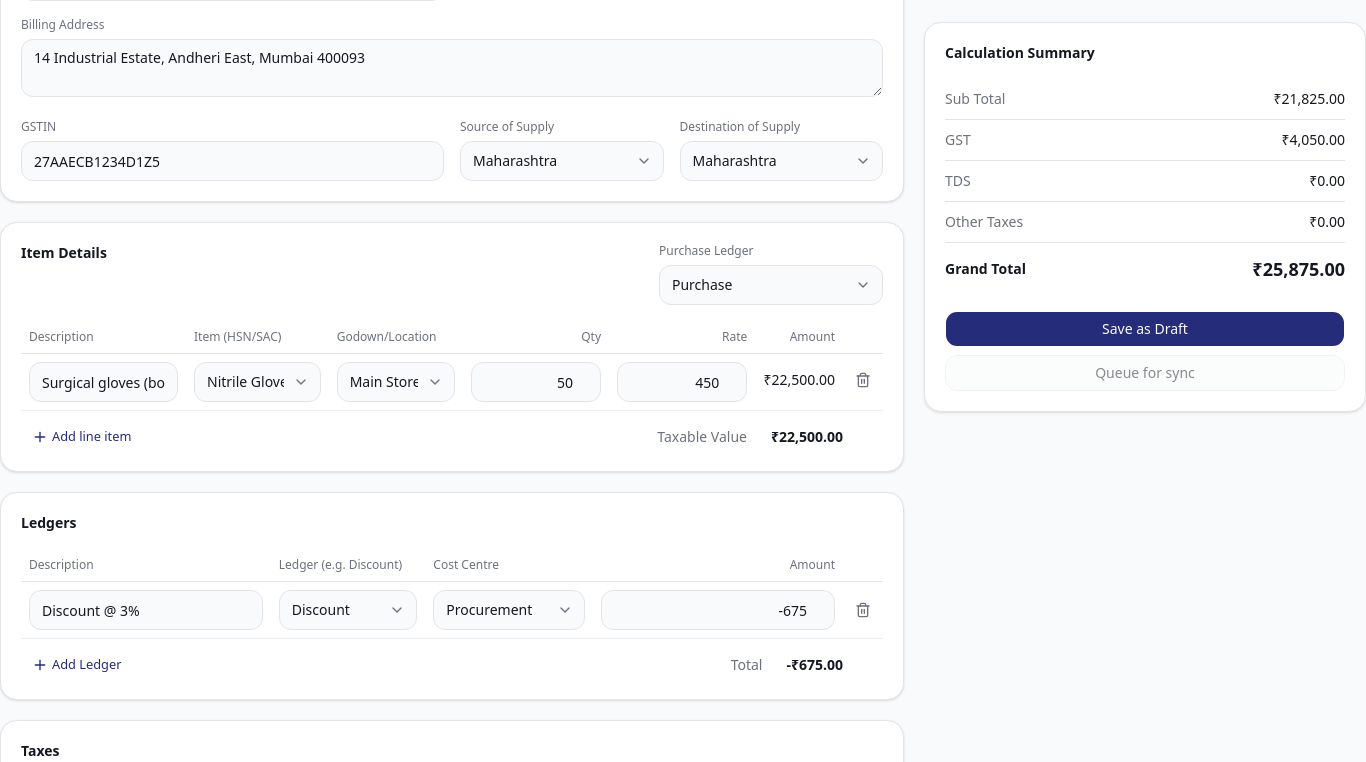
Scenario: CreateBillForm › blocks the save with an inline message when a line has no stock item
(page scrolled)
Select "Select item" in the dropdown named "Item for line 1" at (257, 382), box [194, 362, 321, 402]
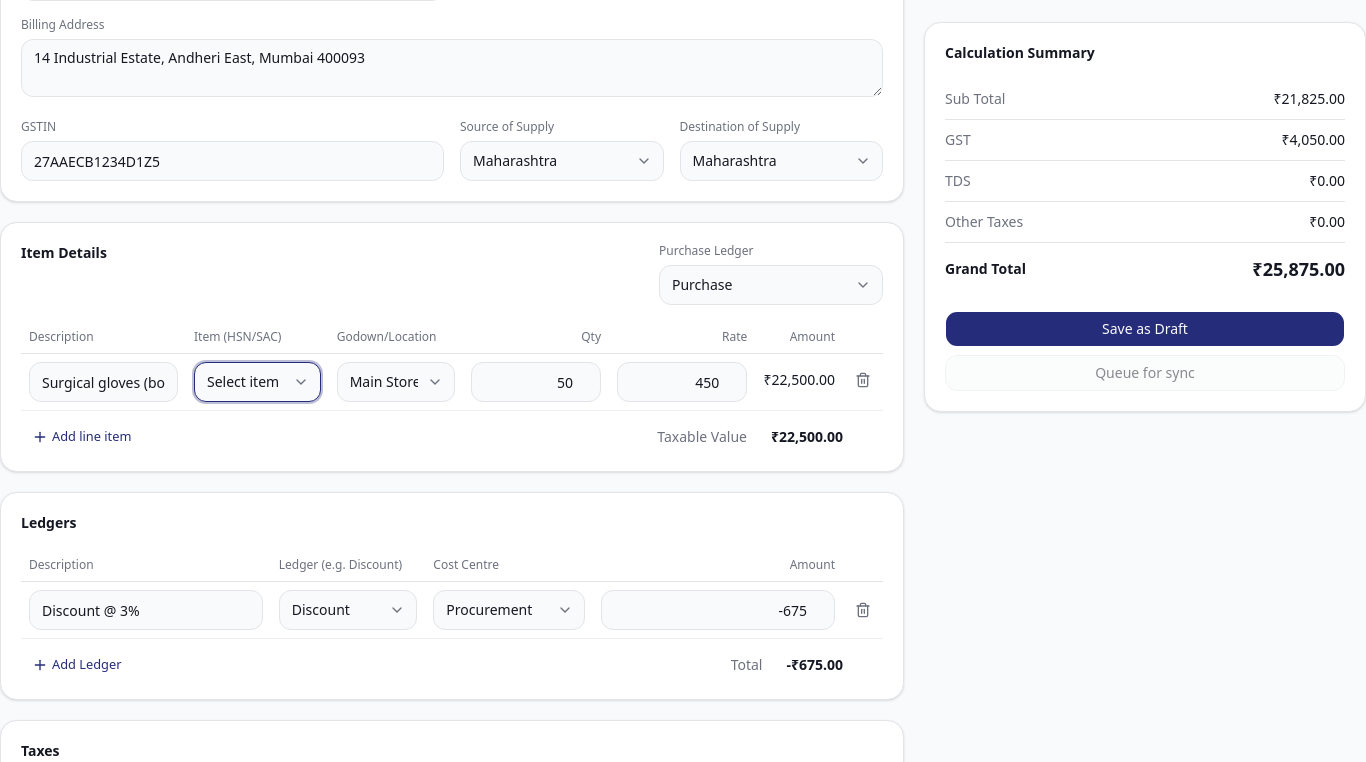
Click the button "Save as Draft".
click(1145, 329)  # box [945, 311, 1345, 347]
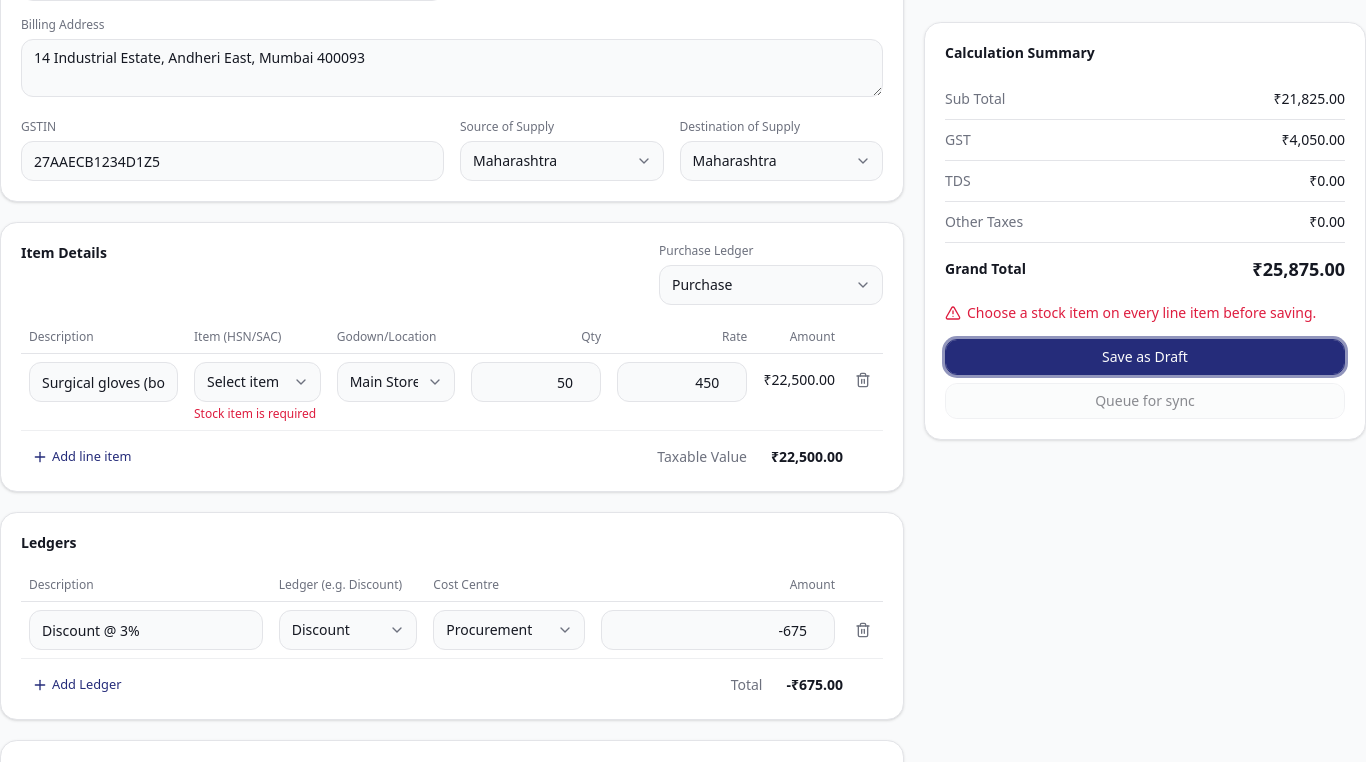
Expected: the text "Choose a stock item on every line item before saving." is shown, [945, 303, 1345, 323]
Expected: the message reads "Stock item is required", [194, 405, 316, 422]
Note: Picking an item clears the inline error and lets the save through.
Select "Syringes — 9018" in the dropdown named "Item for line 1" at (257, 382), box [194, 362, 321, 402]
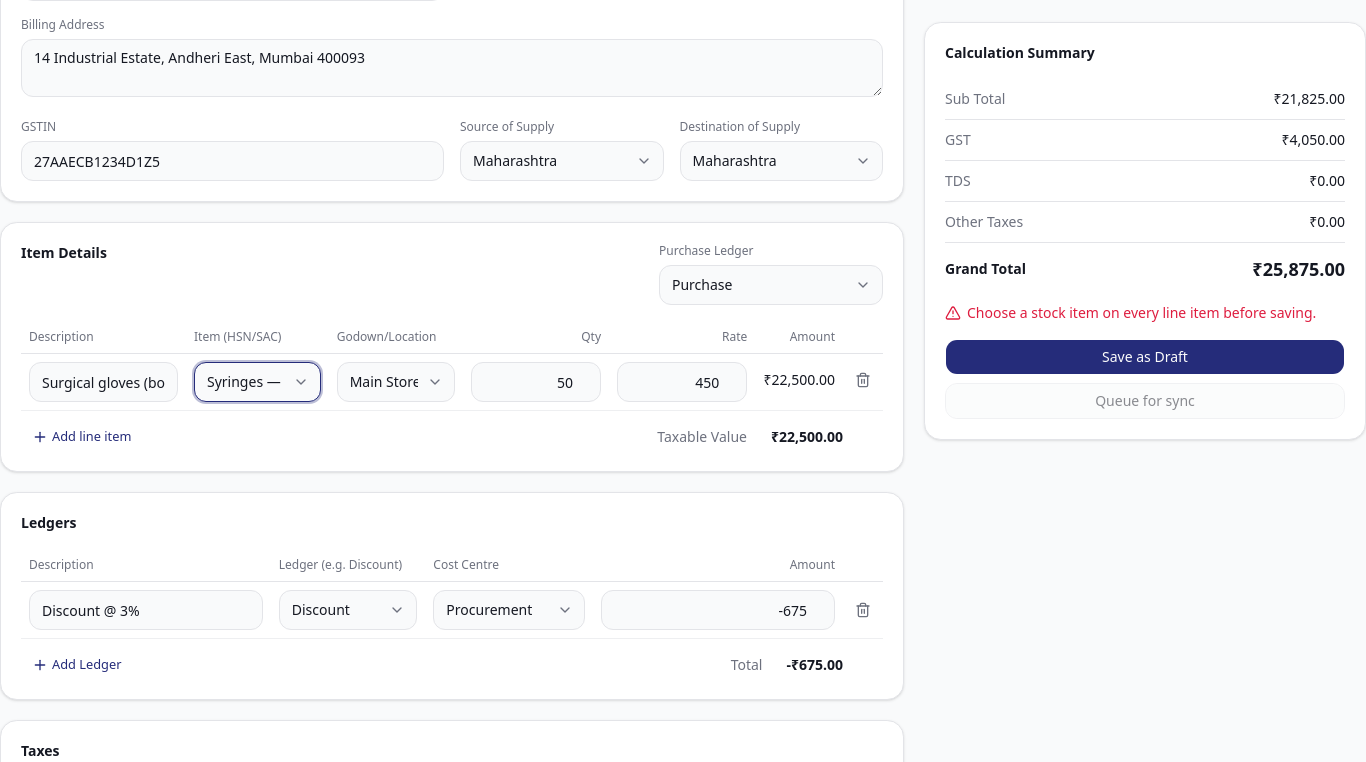
Expected: the text "Stock item is required" is gone
Click the button "Save as Draft".
click(1145, 357)  # box [945, 339, 1345, 375]
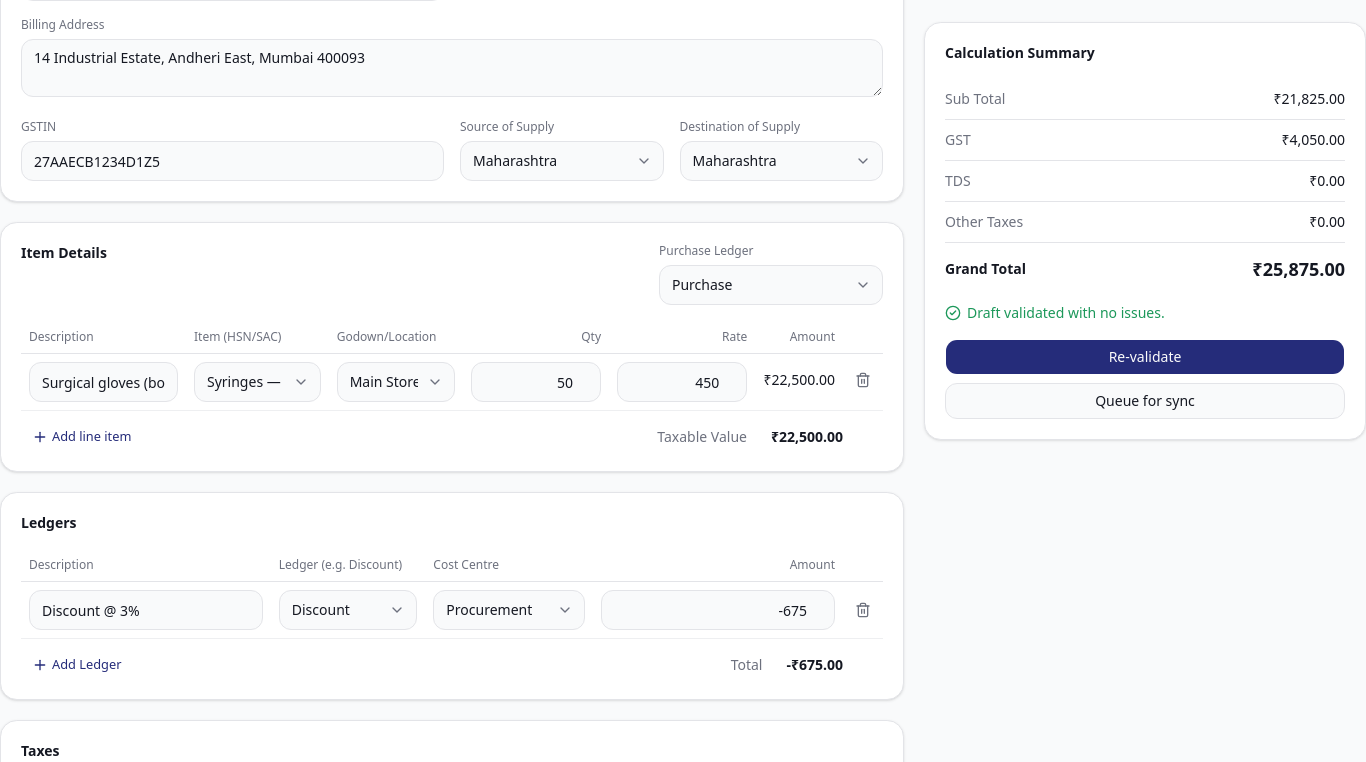
Expected: the text "Draft validated with no issues." is shown, [945, 303, 1165, 322]
